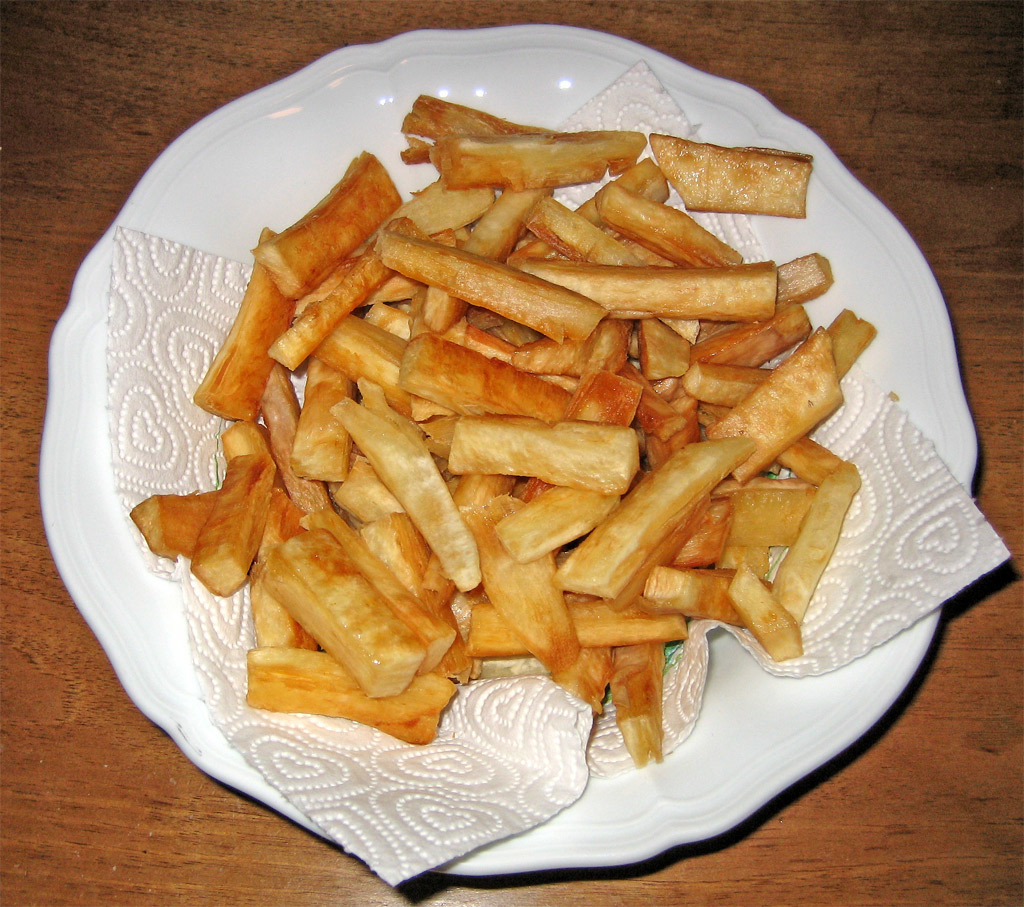French fries: (177, 91, 880, 761)
